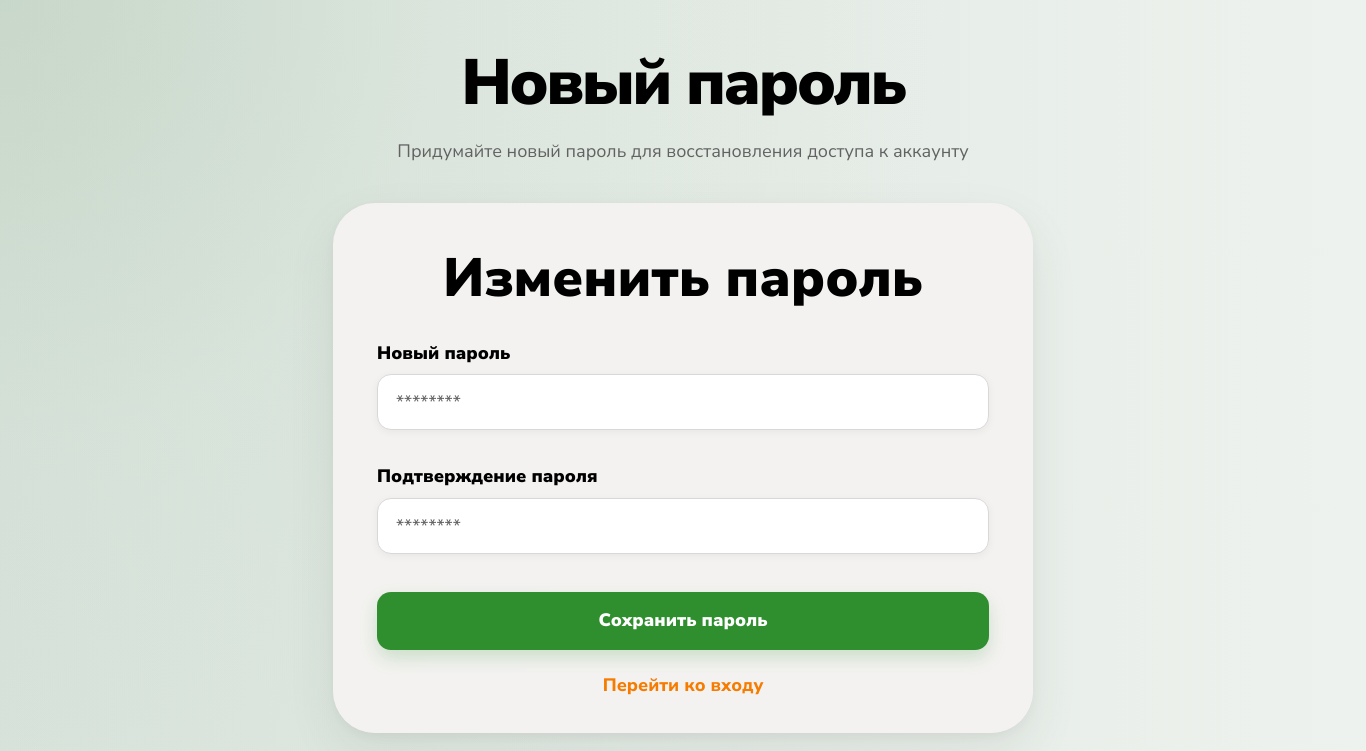
Test case: ResetPasswordPage › shows fallback success message
The image size is (1366, 751).
Type "12345678" into the password field labelled "Новый пароль" at (683, 402), box [377,374,989,430]
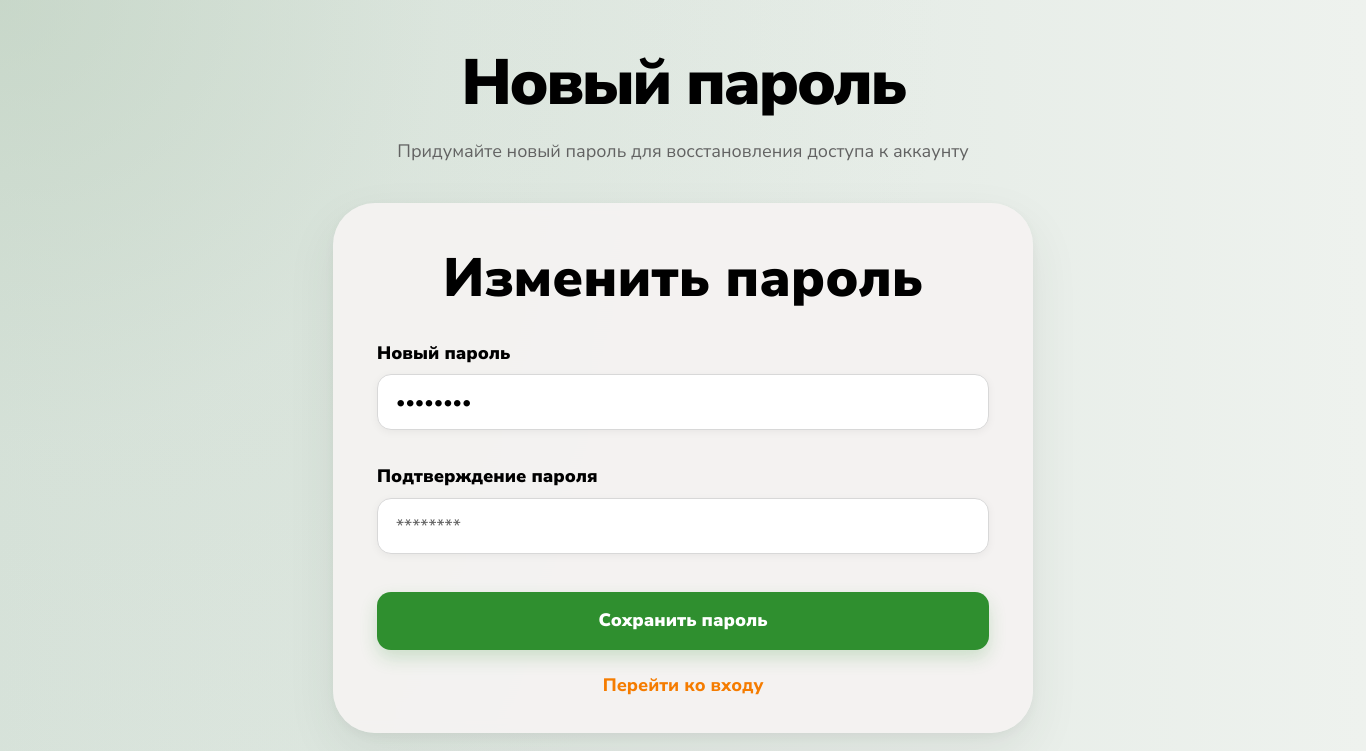
Type "12345678" into the password field labelled "Подтверждение пароля" at (683, 526), box [377,498,989,554]
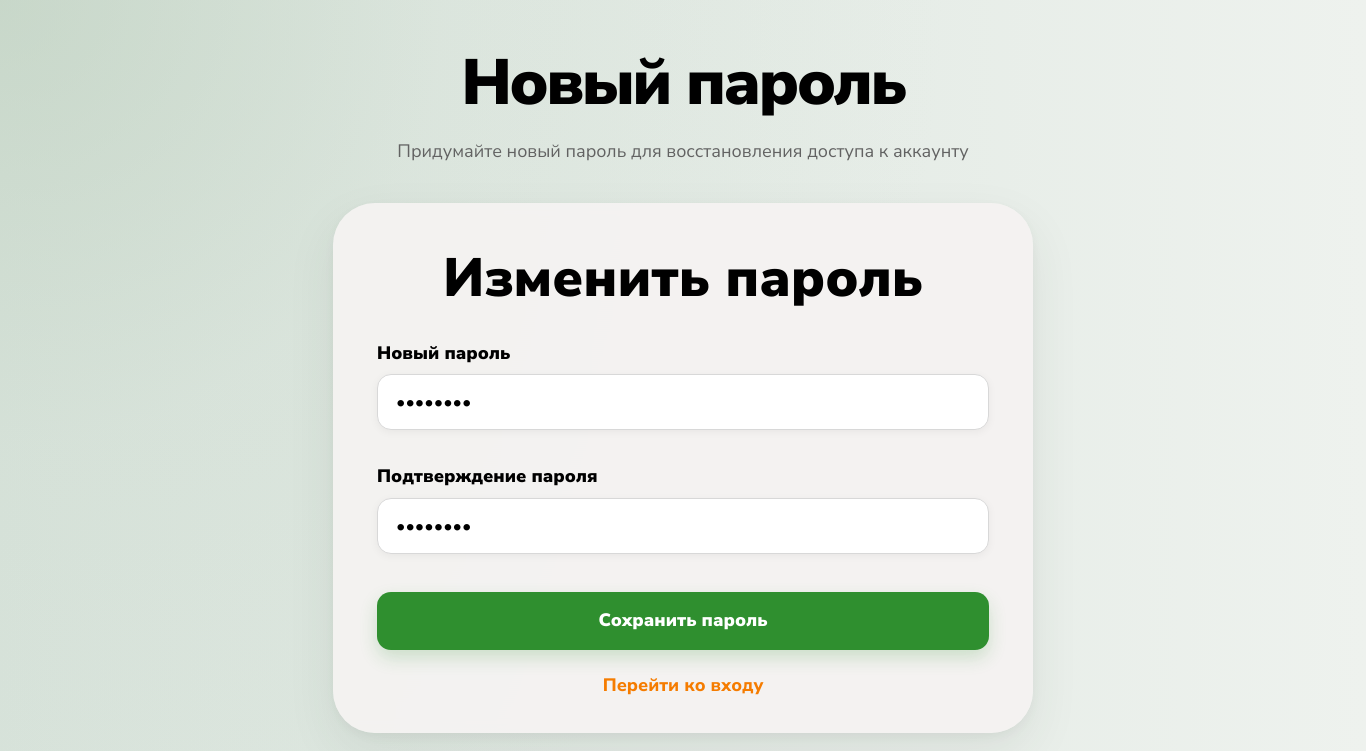
Click the button "Сохранить пароль" at (683, 621), box [377,592,989,650]
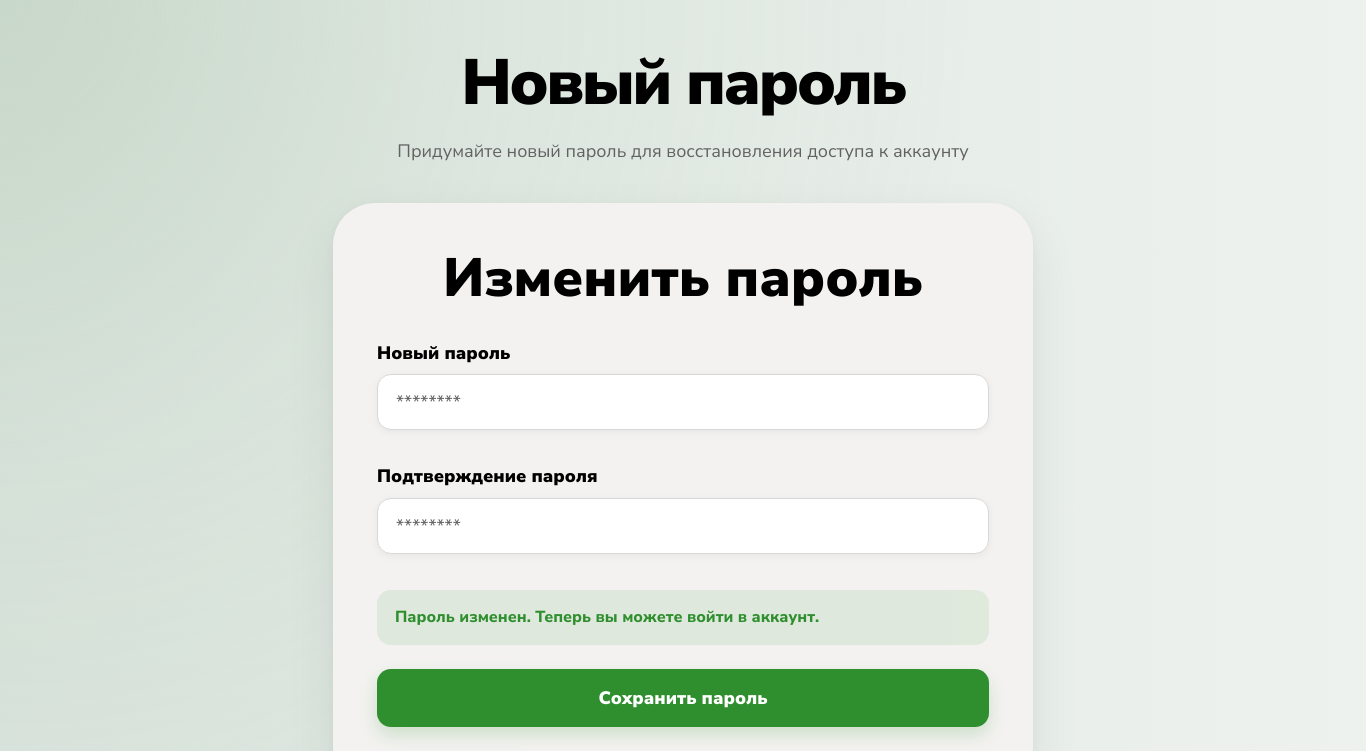
Expected: the text "Пароль изменен. Теперь вы можете войти в аккаунт." is shown, [377,590,989,645]
